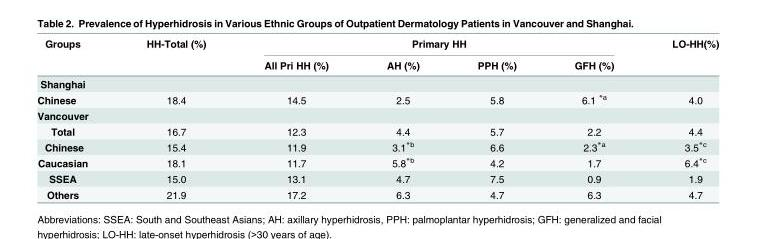table: (36, 37, 718, 200)
table column: (234, 37, 356, 200), (116, 37, 234, 200), (544, 37, 642, 200), (447, 37, 544, 200), (356, 37, 447, 200), (36, 37, 116, 200), (642, 37, 718, 200)
table column header: (36, 37, 718, 74)
table projected row header: (36, 74, 718, 90), (36, 107, 718, 123)
table row: (36, 53, 718, 74), (36, 90, 718, 107), (36, 37, 718, 53), (36, 74, 718, 90), (36, 107, 718, 123), (36, 138, 718, 154), (36, 154, 718, 170), (36, 170, 718, 186), (36, 123, 718, 138), (36, 186, 718, 200)
table spanning cell: (234, 37, 642, 53), (116, 37, 234, 74), (36, 37, 116, 74), (642, 37, 718, 74)
